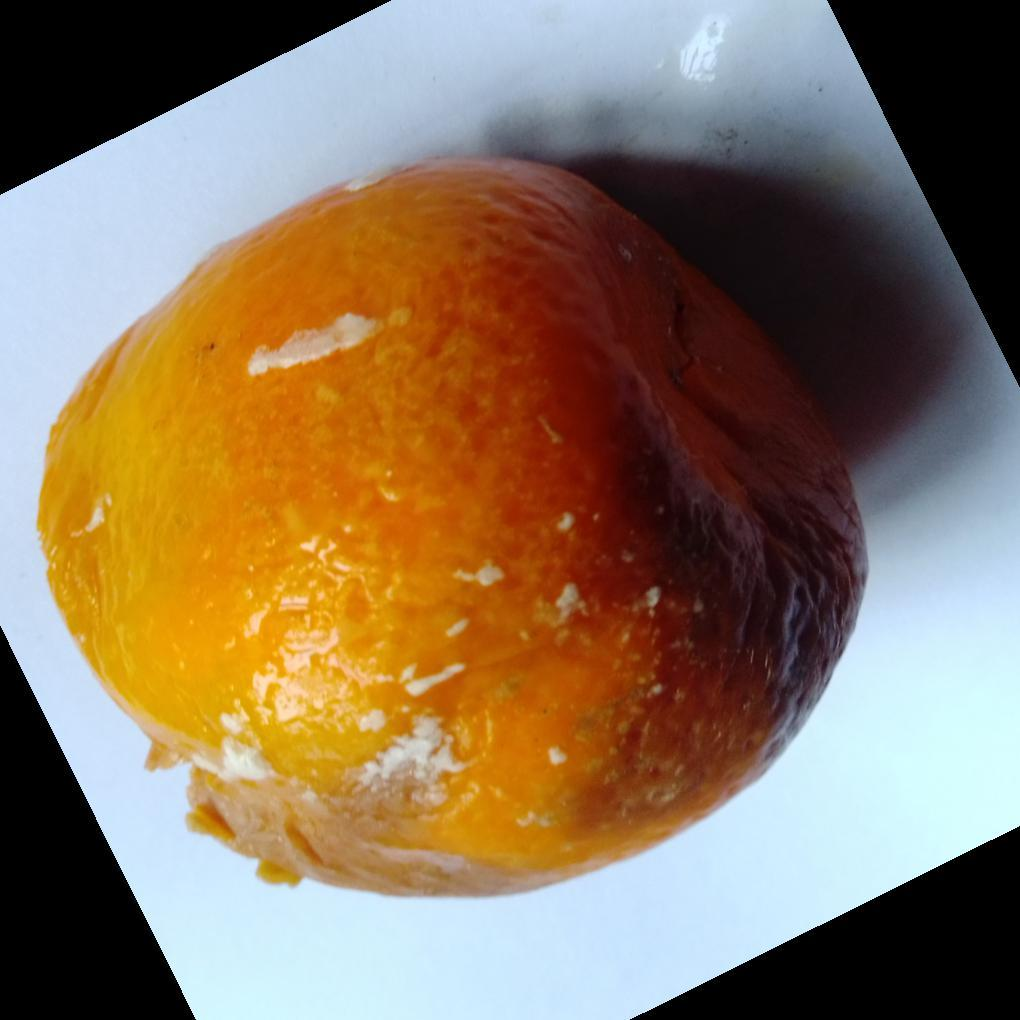FreshOrange: (35, 157, 869, 904)
